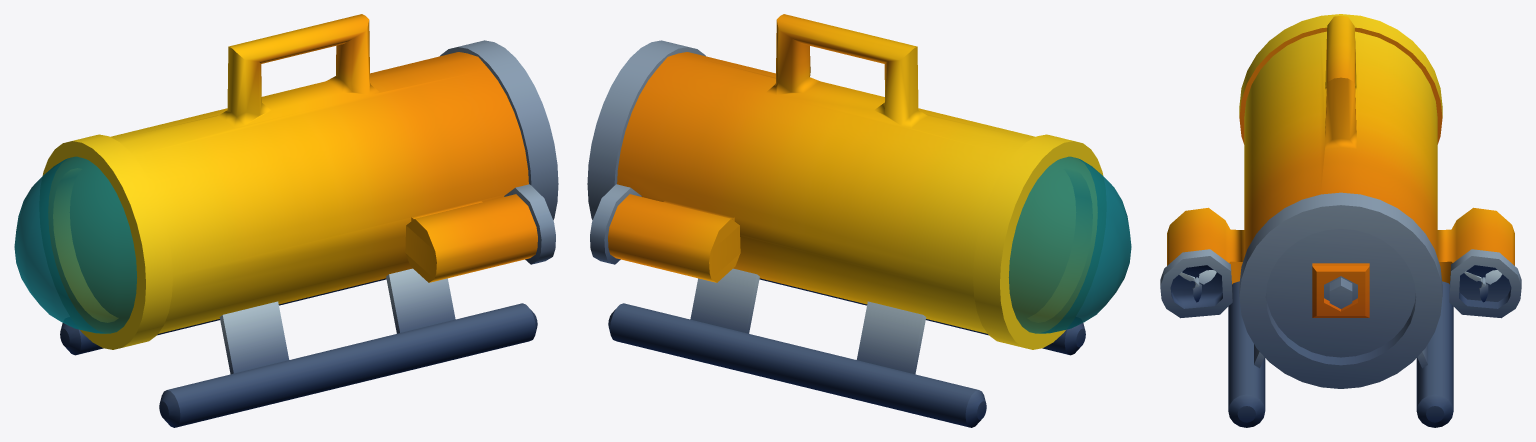
Rendered from CHIPS_body.fbx.
3 renders of one model, left to right at view 1: azimuth 30°, elevation 25°; view 2: azimuth 150°, elevation 25°; view 3: azimuth 270°, elevation 25°, orthographic. The views are drawn at different scales.
Parts seen in each view (by area): view 1: CHIPS_body; view 2: CHIPS_body; view 3: CHIPS_body.
Boxes of the visible parts, left/top/right/bottom form: CHIPS_body: left=14, top=14, right=558, bottom=427; CHIPS_body: left=587, top=14, right=1131, bottom=427; CHIPS_body: left=1160, top=14, right=1521, bottom=427.
Bounding box in the file's own units: 0.00758 × 0.00475 × 0.00521.
2 materials, 1 textured.
